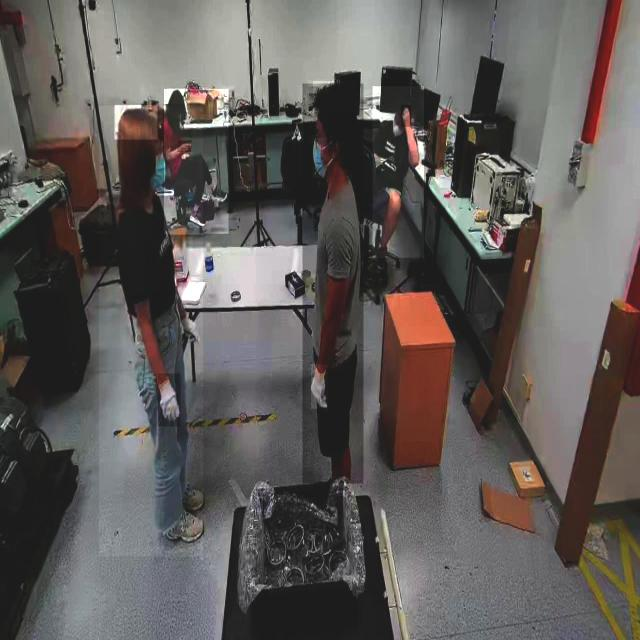face_mask: (146, 151, 172, 208), (304, 138, 330, 189)
hand_glove: (158, 373, 181, 428), (311, 364, 329, 410)
hand_noglove: (401, 105, 411, 128), (178, 140, 192, 153)
head_nohelmet: (114, 105, 158, 140), (313, 81, 356, 115), (167, 88, 185, 105), (396, 98, 412, 113)
person: (99, 106, 203, 557), (302, 83, 364, 484), (164, 89, 229, 235), (372, 86, 424, 259)
shoes: (162, 509, 208, 551), (163, 476, 211, 514)
